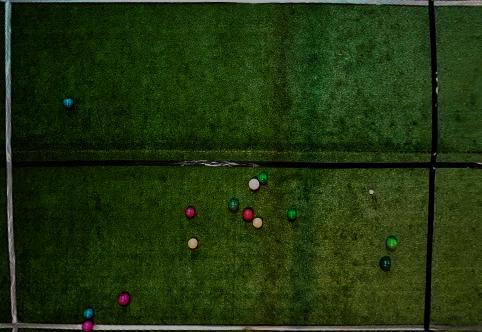blue: (62, 97, 73, 108), (83, 308, 94, 319)
green: (385, 236, 398, 250), (379, 257, 391, 271), (228, 198, 239, 212), (258, 172, 268, 183), (287, 209, 297, 220)
red: (82, 320, 95, 331), (118, 293, 129, 305), (242, 209, 254, 220), (249, 178, 260, 190), (185, 207, 195, 217)
vline: (424, 1, 482, 331), (0, 1, 22, 331)
white: (369, 189, 374, 194)
yellow: (188, 238, 198, 249), (253, 218, 262, 228)
